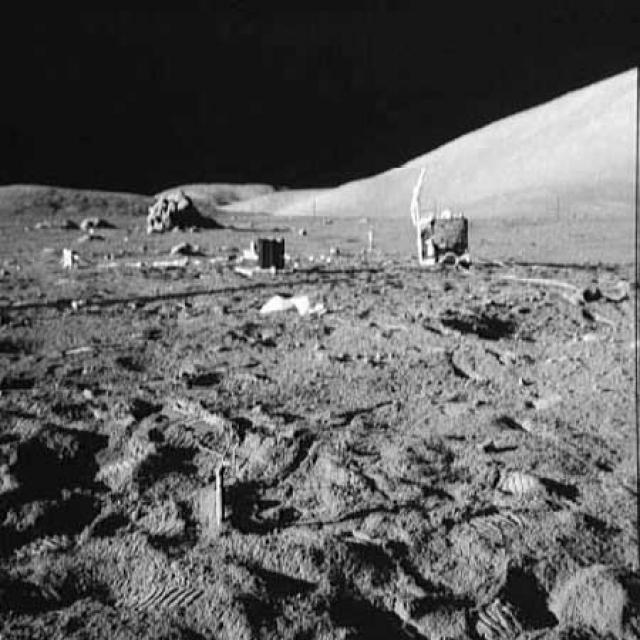artifact: (395, 165, 485, 268), (241, 237, 297, 273)
rock: (139, 186, 203, 233), (70, 212, 111, 235)
